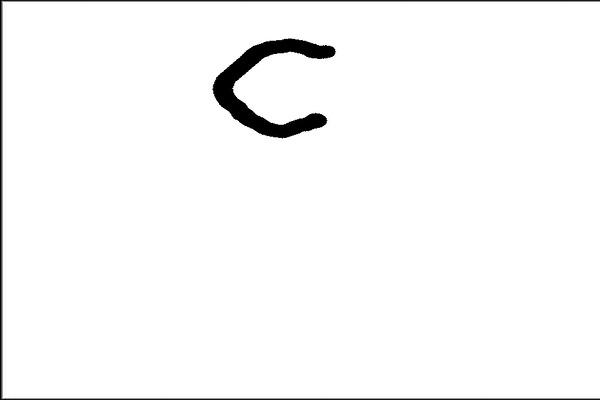C: (208, 31, 339, 140)
